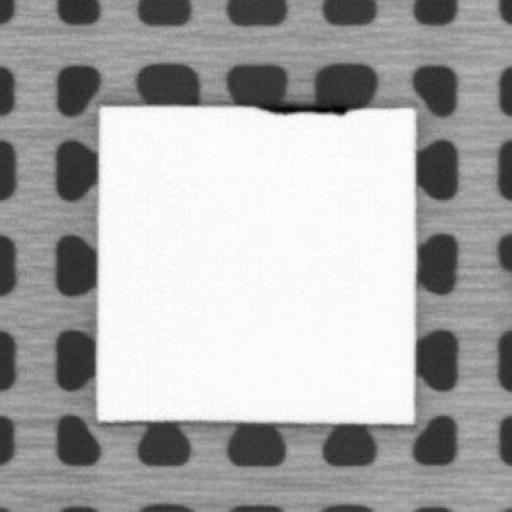DIE_BROKEN: (252, 100, 355, 116)
